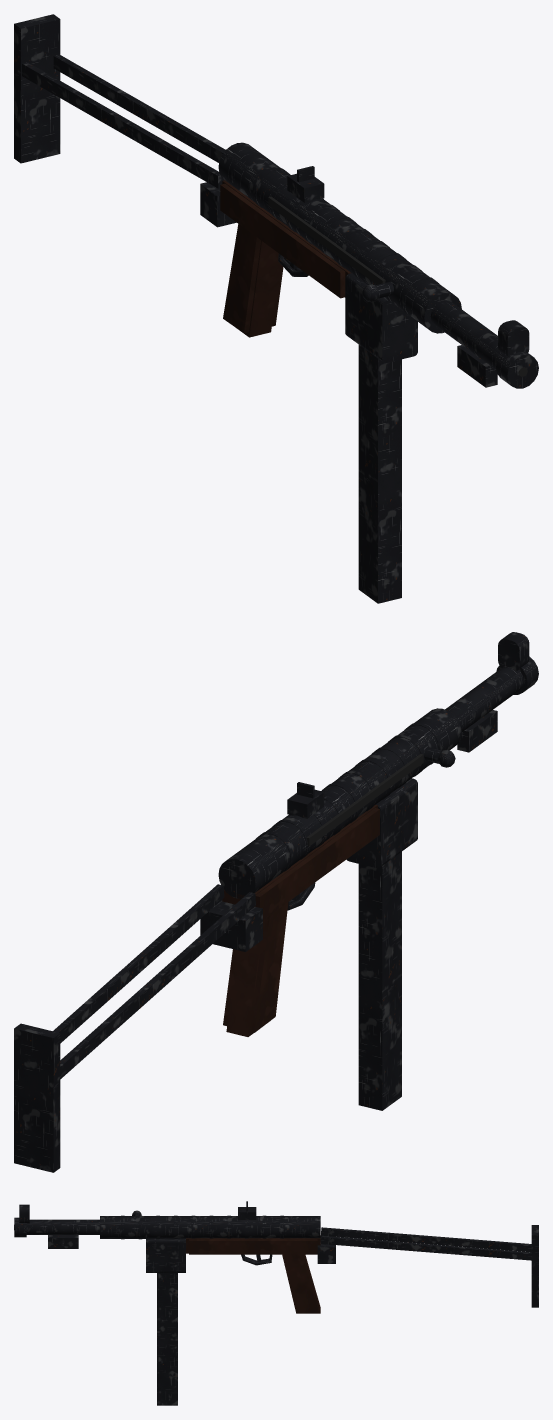
3 views of the same model, one above another, from view 1: azimuth 30°, elevation 25°; view 2: azimuth 150°, elevation 25°; view 3: azimuth 270°, elevation 25° (orthographic). The views are drawn at different scales.
Parts seen in each view (by area): view 1: MP40; view 2: MP40; view 3: MP40.
Part boxes in pixels (box(x1,y1,x2,y2)): MP40: box(14, 14, 538, 603); MP40: box(14, 632, 538, 1172); MP40: box(14, 1201, 538, 1405).
Size of the model in its own units: 0.069 by 0.358 by 0.8565.
Materials: 3 (2 with a texture image).
